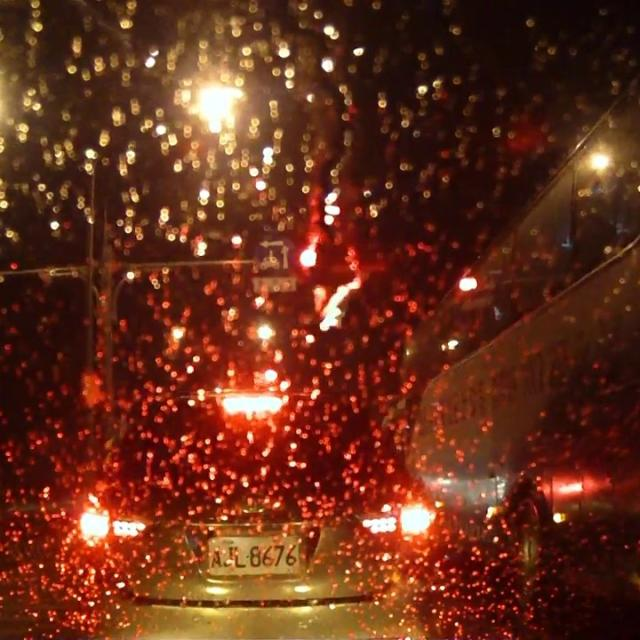Car: (58, 385, 442, 634)
